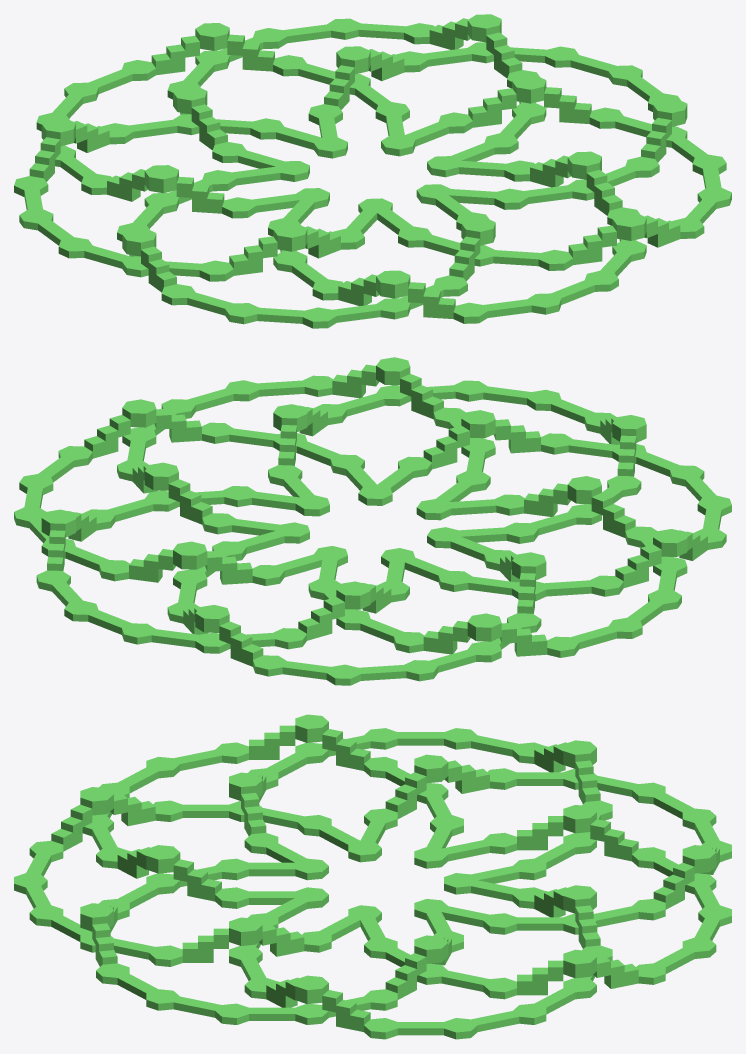
The picture shows the model from 3 angles, top to bottom: view 1: azimuth 30°, elevation 25°; view 2: azimuth 150°, elevation 25°; view 3: azimuth 270°, elevation 25°; orthographic projection.
Visible parts, largest first — view 1: 3D_B_ART_WA_K_14X_1Augmented_Hepta_Prism; view 2: 3D_B_ART_WA_K_14X_1Augmented_Hepta_Prism; view 3: 3D_B_ART_WA_K_14X_1Augmented_Hepta_Prism.
Part boxes in pixels (x1,y1,x2,y2): 3D_B_ART_WA_K_14X_1Augmented_Hepta_Prism: [14, 14, 731, 328]; 3D_B_ART_WA_K_14X_1Augmented_Hepta_Prism: [14, 357, 731, 685]; 3D_B_ART_WA_K_14X_1Augmented_Hepta_Prism: [14, 714, 731, 1039].
Size of the model in its own units: 187 by 10 by 186.
